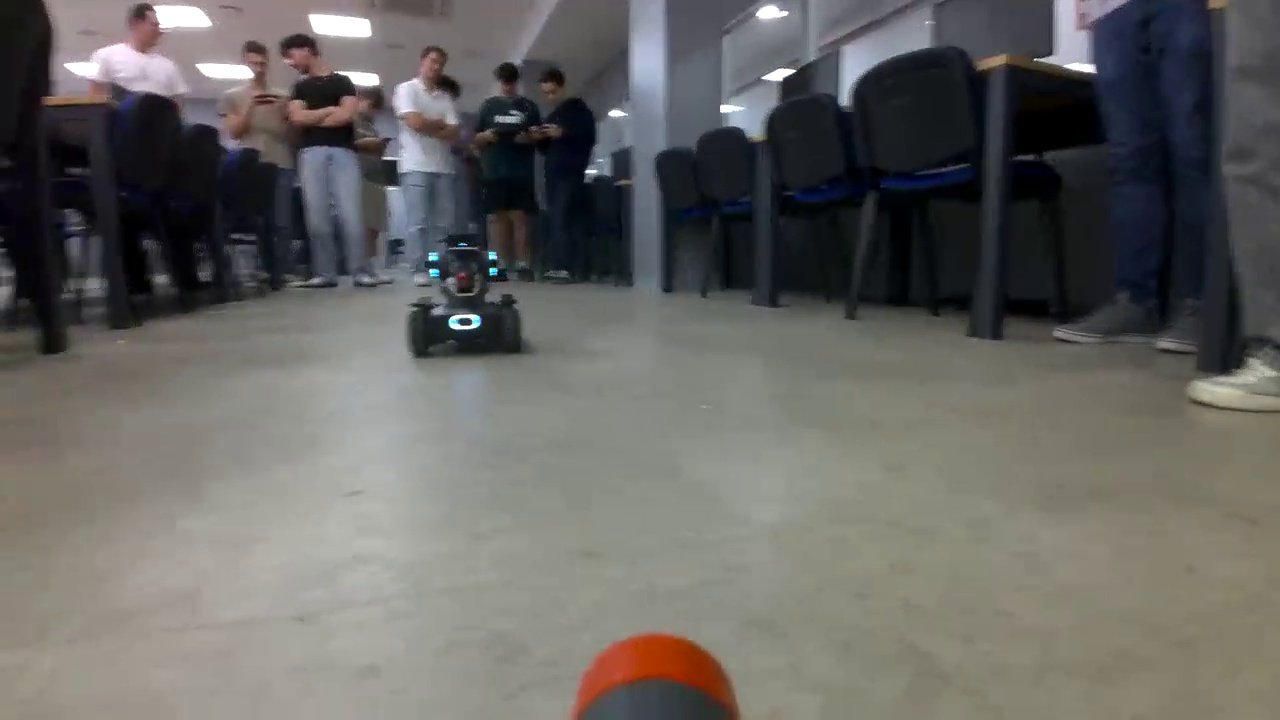robot: (405, 229, 523, 358)
